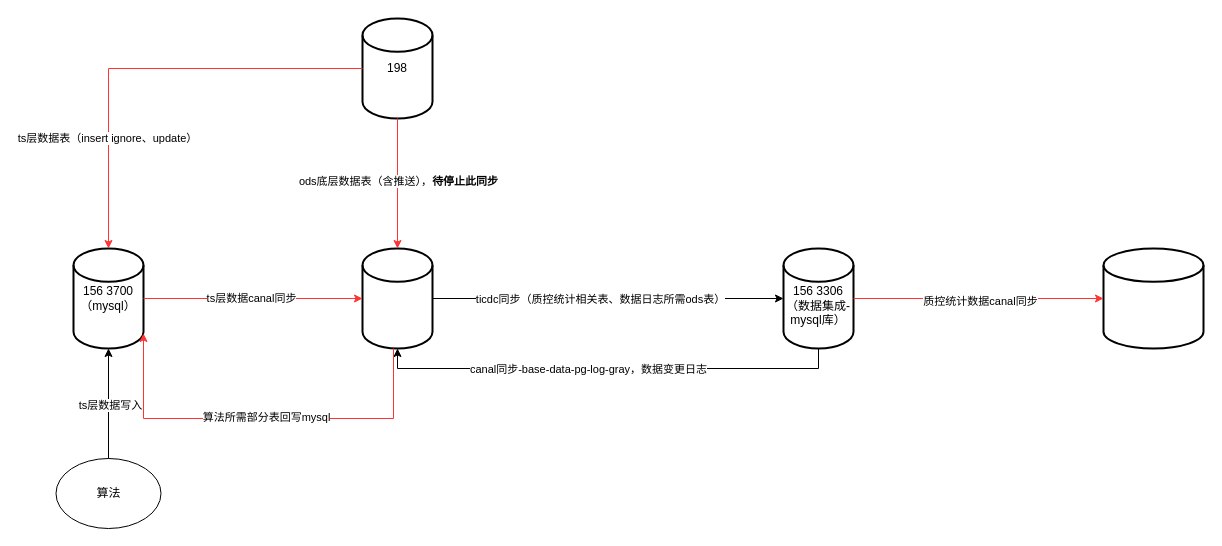
Some shapes in this 1222 by 546 pixel diagram are drawn without their labels. The shapes that lost their labels are listed below. From the top down, each one's centre as x and y in pixels, then its label:
At point 397,298: "灰度tidb".
At point 1153,298: "dataworks-holo（metadata_gray库）".
